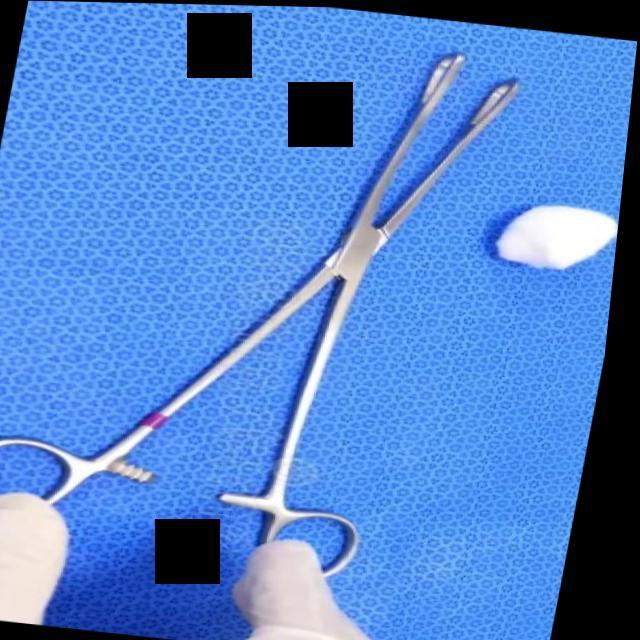Sponge Holding Forceps: (0, 4, 540, 590)
